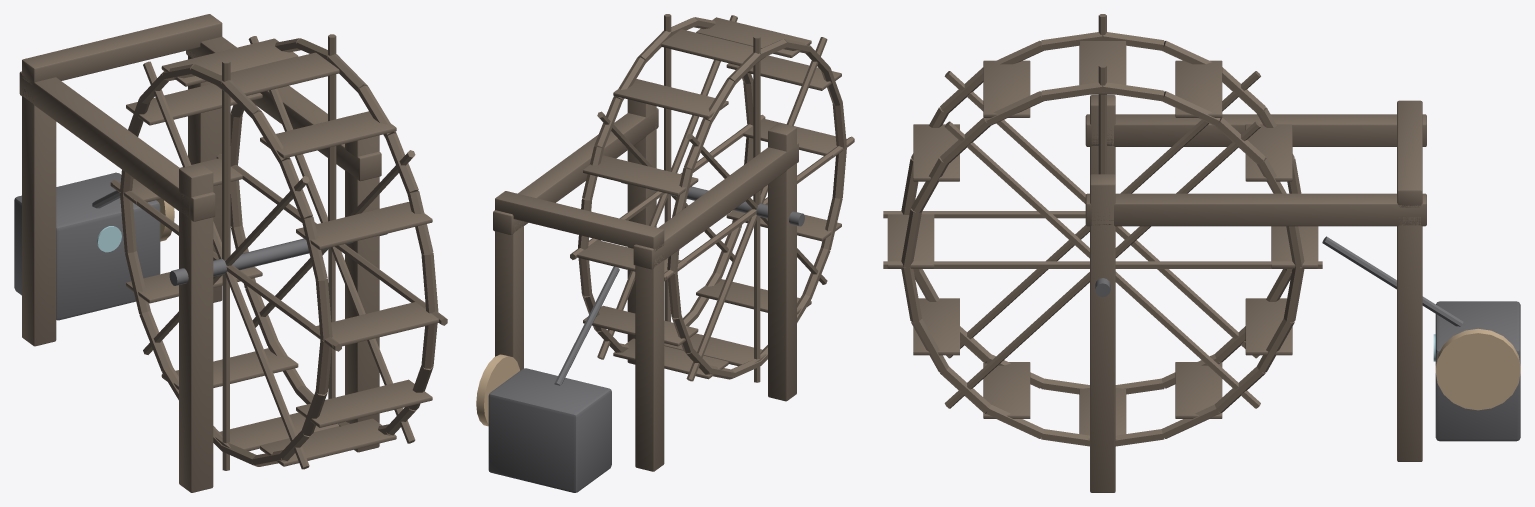
The model's file is quest_tide_wheel.gltf.
3 renders of one model, left to right at view 1: azimuth 30°, elevation 25°; view 2: azimuth 150°, elevation 25°; view 3: azimuth 270°, elevation 25°, orthographic. The views are drawn at different scales.
Visible parts, largest first — view 1: Spin, Body, Glow; view 2: Body, Spin; view 3: Spin, Body.
Part boxes in pixels (x1,y1,x2,y2): Spin: (110,34,447,470); Body: (14,14,387,492); Glow: (97,226,121,252); Body: (476,99,804,492); Spin: (570,14,854,382); Spin: (883,14,1322,446); Body: (1085,95,1520,492).
Size of the model in its own units: 2.8 by 5.28 by 7.48.
